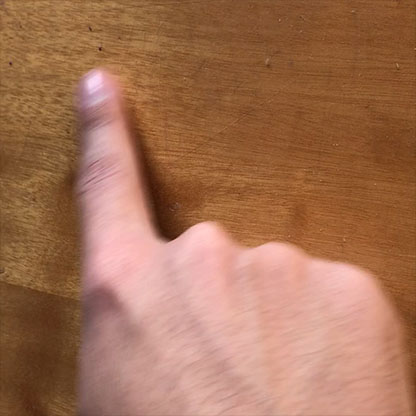fingertip: (69, 62, 125, 114)
